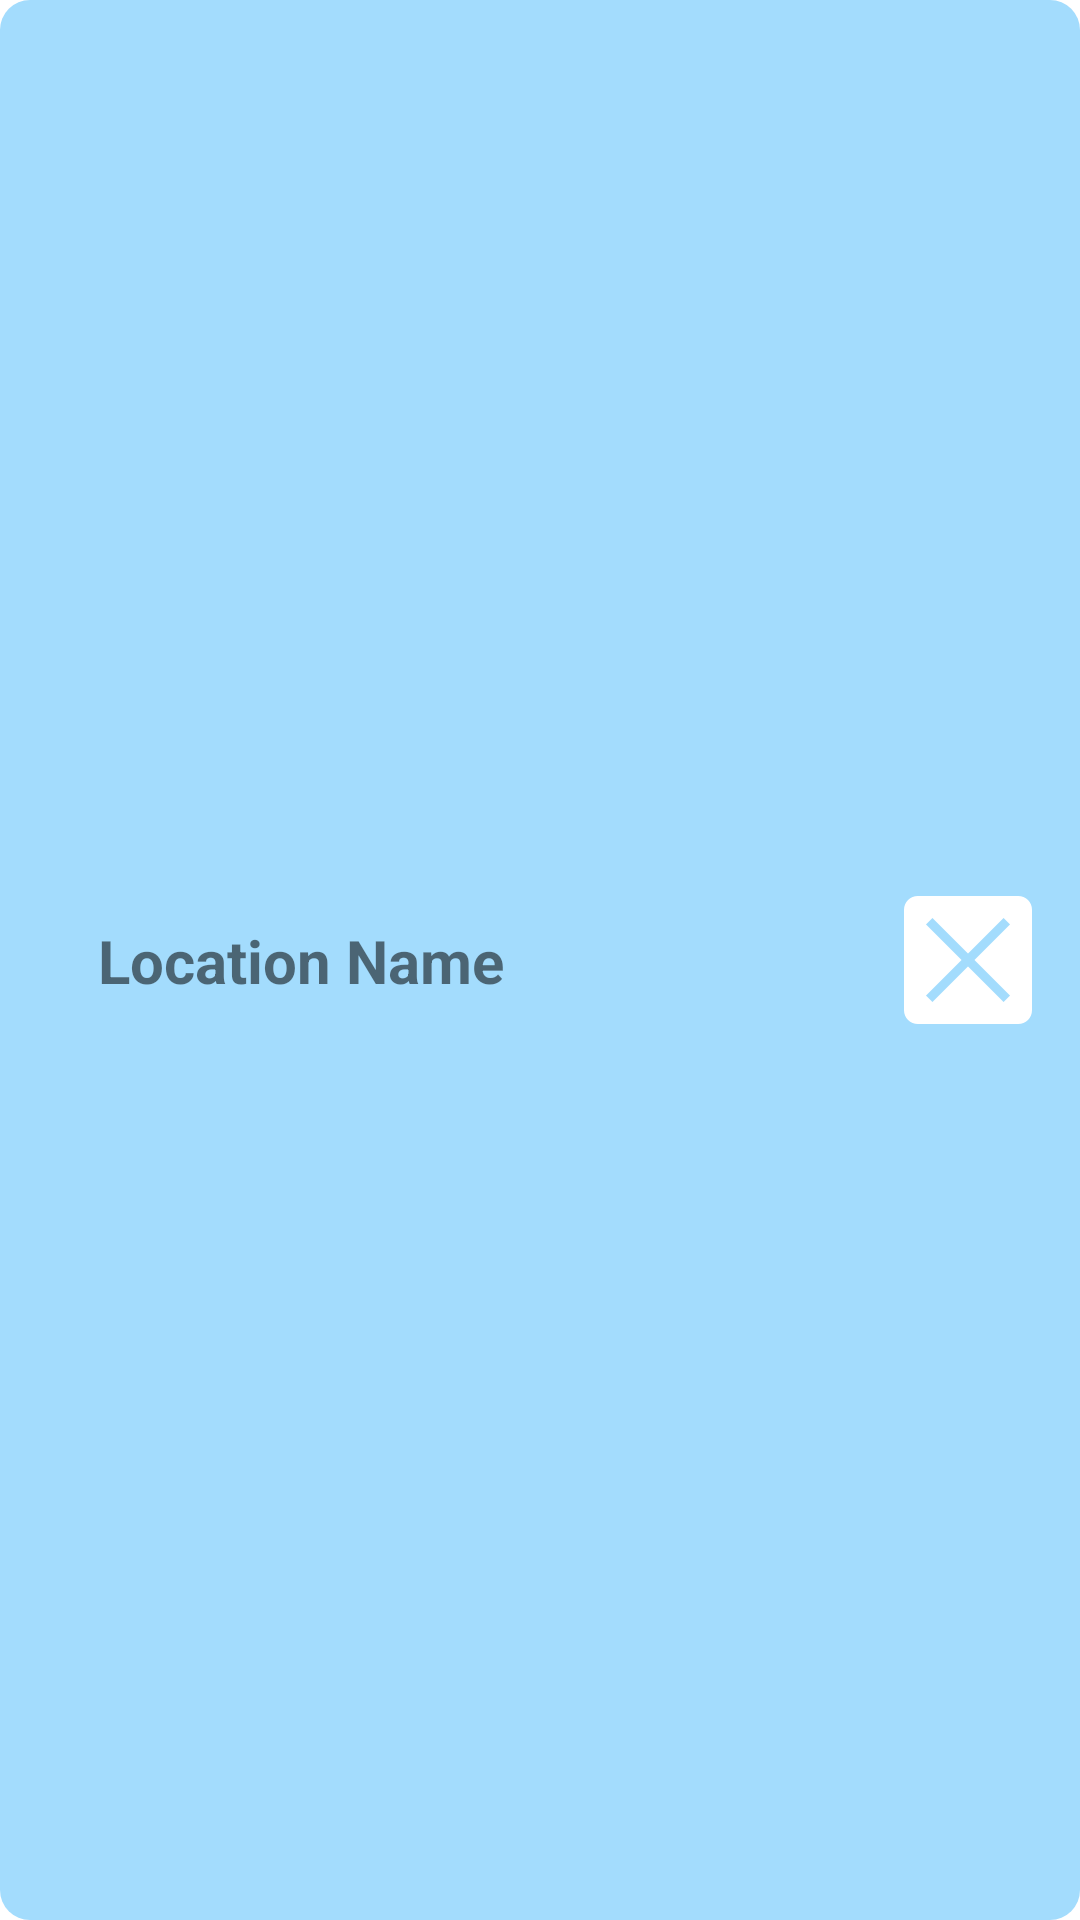

Where icons sit on this 1080x1920 app screen, as region(x1, y1, x2, y2):
remove: region(904, 896, 1032, 1024)
